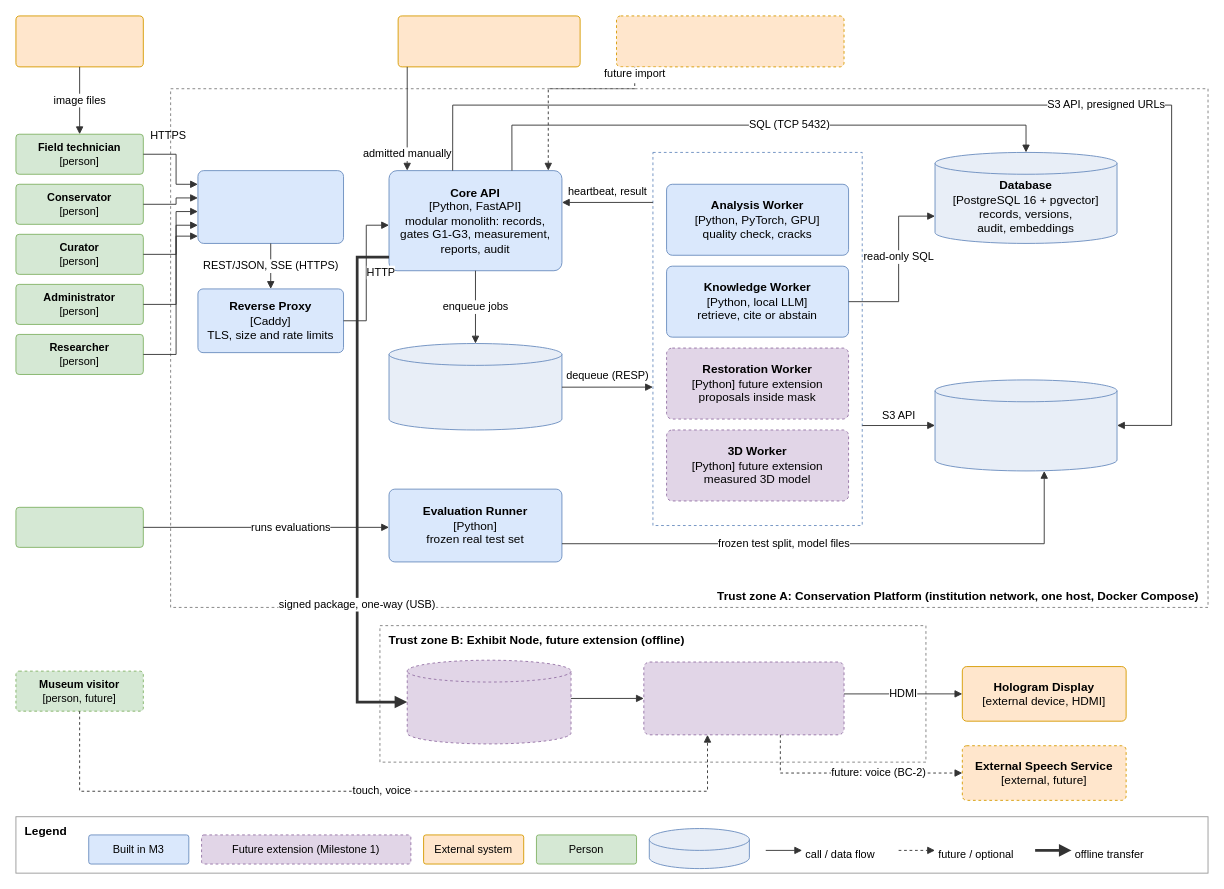
Image size: 1224x889. Some labels were removed from this diagram. Each missing label, with the box of its shape:
Camera / 3D Scanner [device]: (15, 15, 143, 67)
Data store: (648, 828, 749, 869)
Exhibit App [desktop app, OI-1] talking statue playback: (643, 661, 844, 735)
Heritage Reference Sources [external publications]: (397, 15, 580, 67)
Institution Collection System [external, future: FR-12]: (616, 15, 844, 67)
Job Broker [Redis 7] job queues, progress events: (388, 343, 562, 430)
ML engineer [person]: (15, 506, 143, 547)
Object Store [MinIO, S3 API] originals (locked), masks, reports: (934, 379, 1117, 471)
Package Store [local files, read-only] signed package: (406, 659, 571, 744)
Web App [React + TypeScript] browser user interface: (197, 170, 344, 243)
Worker pool: (652, 152, 862, 526)
